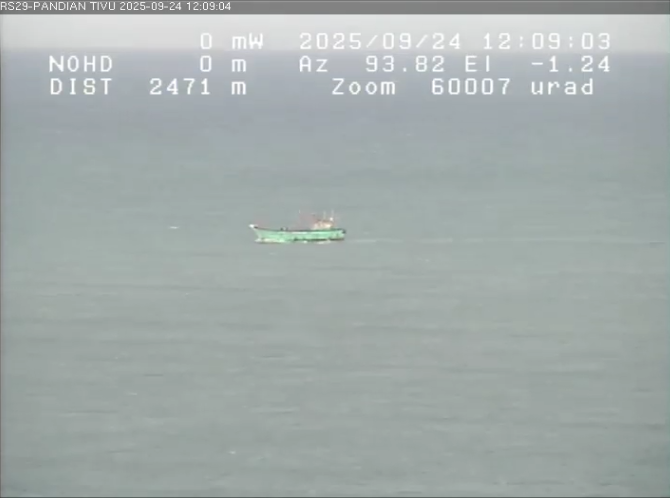FISHING_BOAT: (232, 191, 400, 271)
